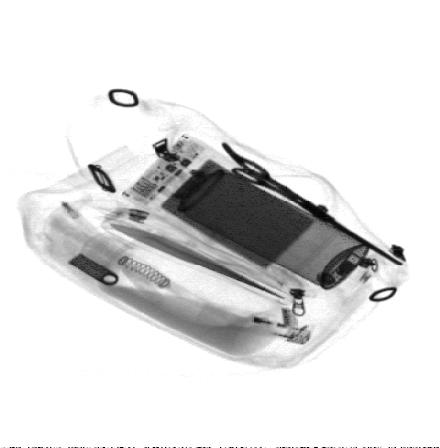Lighter: (193, 301, 312, 349)
Powerbank: (119, 134, 350, 292)
Scissors: (221, 142, 405, 267)
Sprayer: (154, 161, 370, 291)
